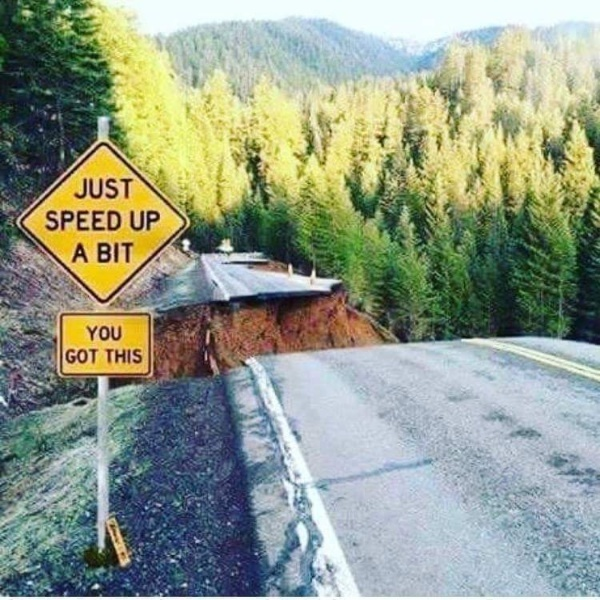text: (145, 209, 161, 233), (81, 177, 96, 202), (97, 177, 112, 202), (113, 177, 128, 202), (49, 209, 64, 233), (65, 209, 80, 233), (81, 209, 96, 233), (97, 209, 112, 233), (129, 209, 144, 233), (97, 241, 112, 264), (113, 241, 128, 264), (65, 348, 80, 366), (81, 348, 96, 366), (97, 325, 112, 342), (113, 348, 128, 365), (129, 348, 144, 365), (113, 209, 122, 233), (81, 243, 90, 265), (85, 325, 96, 342), (73, 177, 80, 202), (113, 325, 123, 342), (103, 348, 112, 365), (129, 177, 135, 202), (129, 241, 135, 264), (45, 209, 48, 233), (77, 243, 80, 265), (97, 348, 100, 366)
